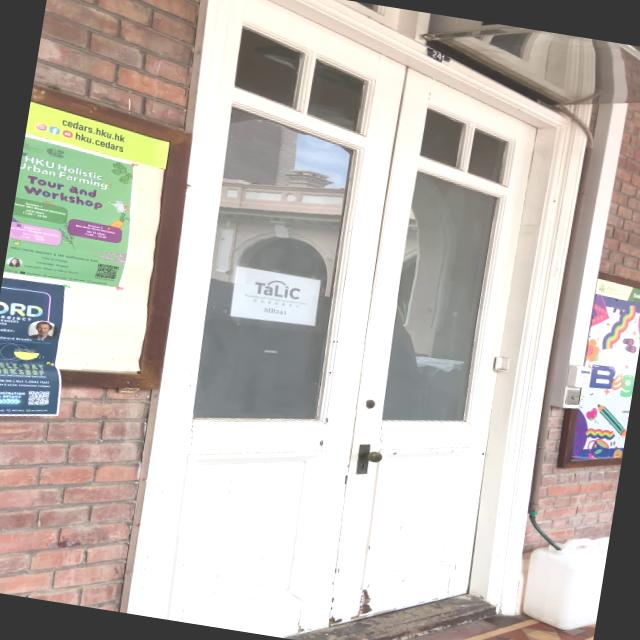room241: (424, 46, 453, 68)
